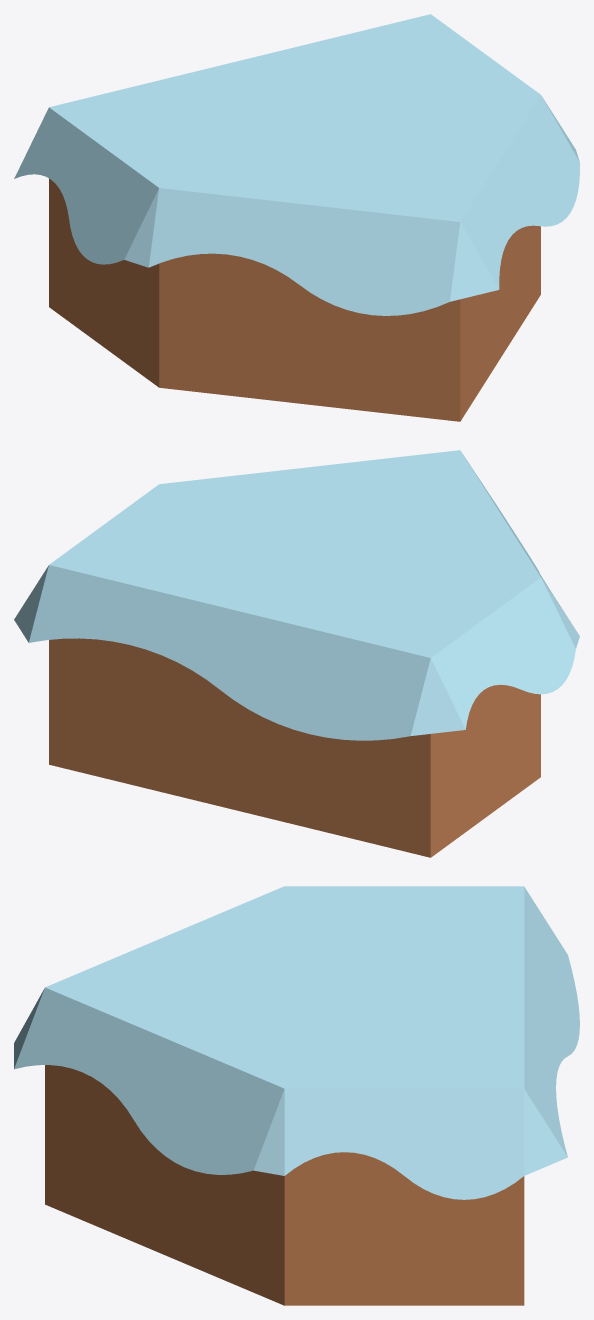
The model's file is blockSnowEnd.fbx.
3 views of the same model, one above another, from view 1: azimuth 30°, elevation 25°; view 2: azimuth 150°, elevation 25°; view 3: azimuth 270°, elevation 25° (orthographic). The views are drawn at different scales.
Visible parts, largest first — view 1: blockSnowEnd; view 2: blockSnowEnd; view 3: blockSnowEnd.
Part boxes in pixels (x1,y1,x2,y2): blockSnowEnd: [14, 14, 579, 421]; blockSnowEnd: [14, 450, 579, 857]; blockSnowEnd: [14, 886, 579, 1305].
Bounding box in the file's own units: 12.33 × 5 × 11.81.
